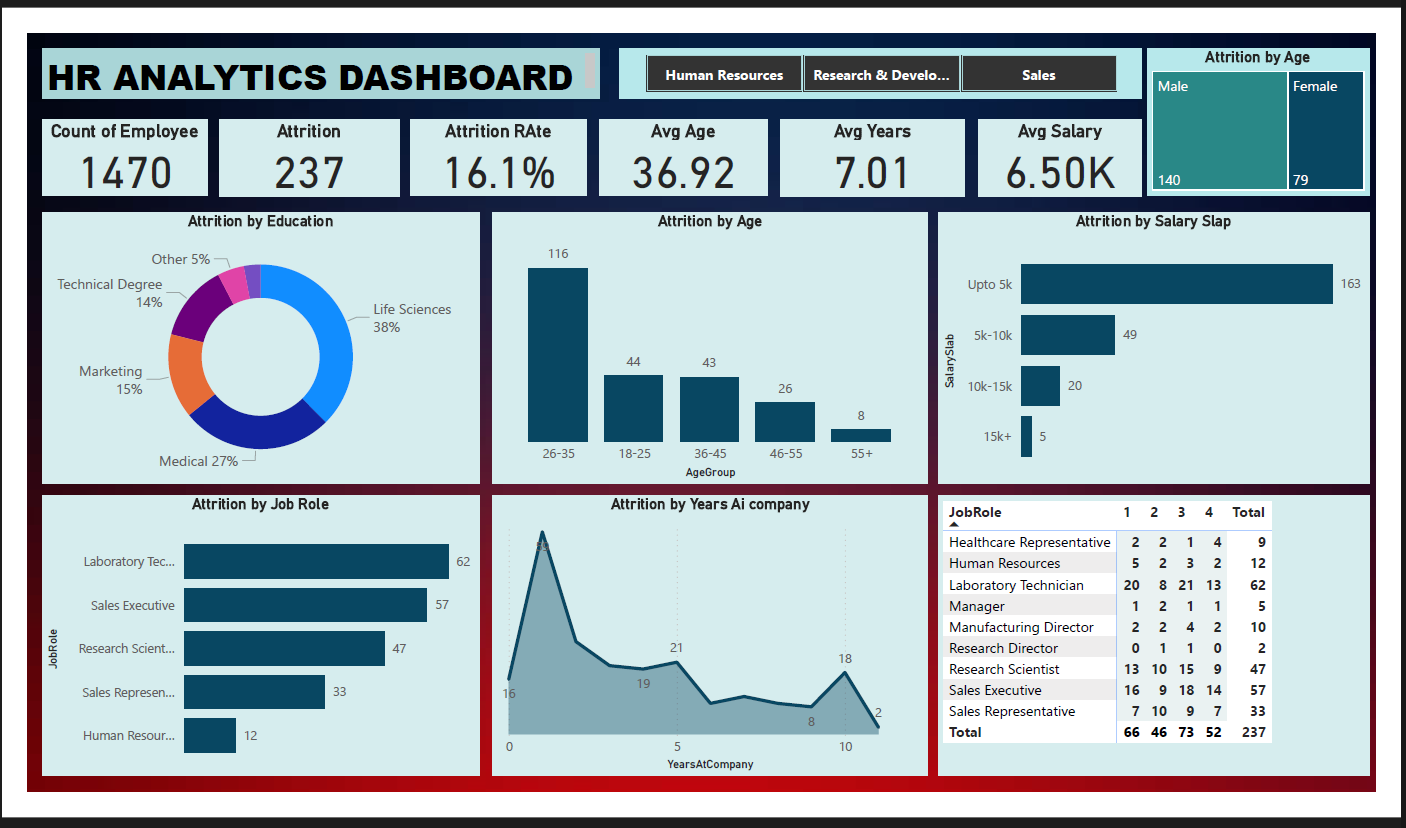

The page's visual inventory and layout, read from the dashboard file:
{"tool":"powerbi","page":{"name":"Page 1","canvas":[1280,720],"ordinal":0},"visuals":[{"type":"card","title":"Attrition RAte","fields":{"Values":["HR_Analytics.AttritionRate"]},"box":[364.3,82,166.5,72.4],"z":0},{"type":"card","title":"Count of Employee","fields":{"Values":["CountNonNull(HR_Analytics.EmpID)"]},"box":[14.5,82,156.8,72.4],"z":1000},{"type":"card","title":"Attrition ","fields":{"Values":["Sum(HR_Analytics.AttritionCount)"]},"box":[181.8,82.4,171.1,72.2],"z":2000},{"type":"card","title":"Avg Salary","fields":{"Values":["Avg(HR_Analytics.MonthlyIncome)"]},"box":[902.9,82.4,155.6,72.2],"z":3000},{"type":"card","title":"Avg Age","fields":{"Values":["Avg(HR_Analytics.Age)"]},"box":[542.9,82,160.5,72.4],"z":4000},{"type":"card","title":"Avg Years","fields":{"Values":["Avg(HR_Analytics.YearsAtCompany)"]},"box":[715.1,82.4,174.4,72.2],"z":5000},{"type":"donutChart","title":"Attrition by Education","fields":{"Category":["HR_Analytics.EducationField"],"Y":["Sum(HR_Analytics.AttritionCount)"]},"box":[14.5,170.1,415,257],"z":6000},{"type":"clusteredColumnChart","title":"Attrition by Age","fields":{"Category":["HR_Analytics.AgeGroup"],"Y":["Sum(HR_Analytics.AttritionCount)"]},"box":[441.6,170.1,413.8,257],"z":7000},{"type":"pivotTable","fields":{"Rows":["HR_Analytics.JobRole"],"Values":["Sum(HR_Analytics.AttritionCount)"],"Columns":["HR_Analytics.JobSatisfaction"]},"box":[865,439.1,409,265.4],"z":8000},{"type":"barChart","title":"Attrition by Salary Slap","fields":{"Category":["HR_Analytics.SalarySlab"],"Y":["Sum(HR_Analytics.AttritionCount)"]},"box":[865,170.1,409,257],"z":9000},{"type":"barChart","title":"Attrition by Job Role","fields":{"Category":["HR_Analytics.JobRole"],"Y":["Sum(HR_Analytics.AttritionCount)"]},"box":[14.5,439.1,415,265.4],"z":10000},{"type":"areaChart","title":"Attrition by Years Ai company","fields":{"Category":["HR_Analytics.YearsAtCompany"],"Y":["Sum(HR_Analytics.AttritionCount)"]},"box":[441.6,439.1,413.8,265.4],"z":11000},{"type":"treemap","title":"Attrition by Age","fields":{"Group":["HR_Analytics.Gender"],"Values":["Sum(HR_Analytics.AttritionCount)"]},"box":[1062.9,14.5,211.1,139.9],"z":12000},{"type":"slicer","fields":{"Values":["HR_Analytics.Department"]},"box":[562.2,14.5,495.8,47.1],"z":13000},{"type":"textbox","box":[14.5,14.5,528.4,47.1],"z":14000}]}

Visuals, with their boxes in screenshot pixels (x1, y1, x2, y2):
"Attrition RAte" card: region(410, 119, 584, 194)
"Count of Employee" card: region(44, 119, 208, 194)
"Attrition " card: region(219, 119, 398, 194)
"Avg Salary" card: region(973, 119, 1135, 194)
"Avg Age" card: region(597, 119, 764, 194)
"Avg Years" card: region(776, 119, 959, 194)
"Attrition by Education" donutChart: region(44, 211, 478, 479)
"Attrition by Age" clusteredColumnChart: region(491, 211, 923, 479)
pivotTable - HR_Analytics.JobRole x Sum(HR_Analytics.AttritionCount): region(933, 492, 1360, 769)
"Attrition by Salary Slap" barChart: region(933, 211, 1360, 479)
"Attrition by Job Role" barChart: region(44, 492, 478, 769)
"Attrition by Years Ai company" areaChart: region(491, 492, 923, 769)
"Attrition by Age" treemap: region(1140, 48, 1360, 194)
slicer - HR_Analytics.Department: region(617, 48, 1135, 97)
textbox: region(44, 48, 597, 97)
